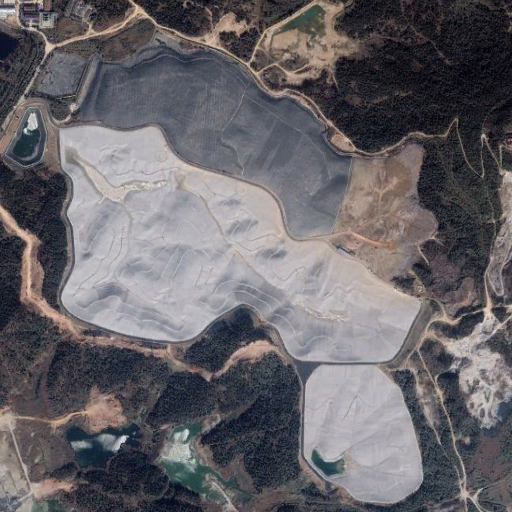lf: (58, 49, 434, 505)
